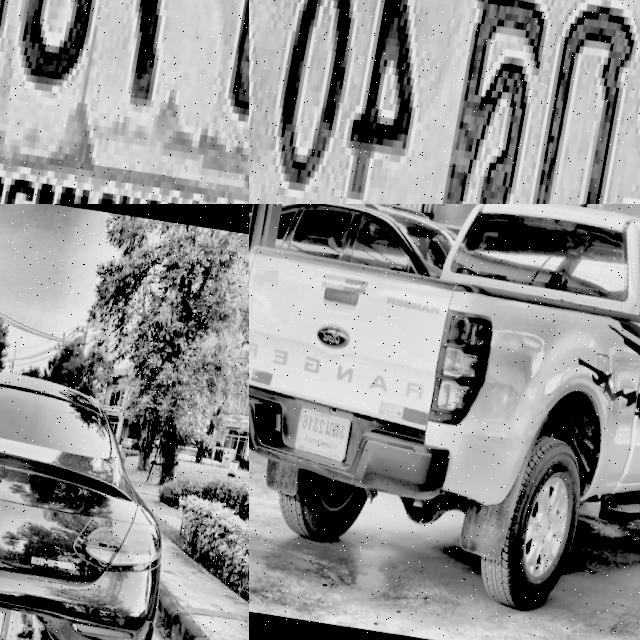license-plate: (249, 0, 640, 204), (0, 0, 249, 204), (285, 400, 353, 467)
